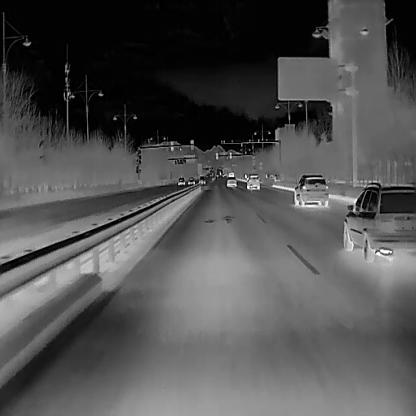bus: (228, 170, 234, 177)
car: (342, 177, 416, 262), (293, 171, 330, 207), (244, 172, 260, 191), (225, 174, 237, 187), (174, 175, 184, 185), (197, 175, 205, 185), (188, 176, 195, 184)
